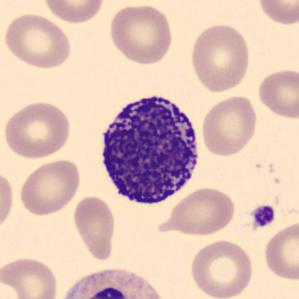Basophil: (92, 87, 205, 210)
Monocyte: (50, 260, 175, 299)
Neutrophil: (47, 260, 173, 299)
Platelets: (249, 203, 278, 229)
RBC: (188, 21, 252, 94), (106, 1, 176, 67), (156, 184, 238, 238), (187, 236, 256, 299), (2, 99, 73, 160), (2, 11, 74, 70), (16, 157, 82, 217), (199, 93, 259, 158), (71, 194, 118, 262), (0, 254, 60, 299), (262, 219, 298, 283), (256, 66, 298, 120), (41, 0, 107, 25), (255, 0, 297, 27), (0, 167, 16, 234)
